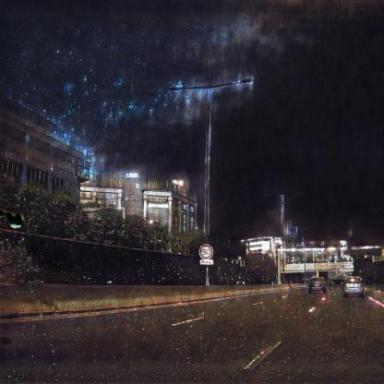Speed_limit_90: (200, 244, 213, 260)
